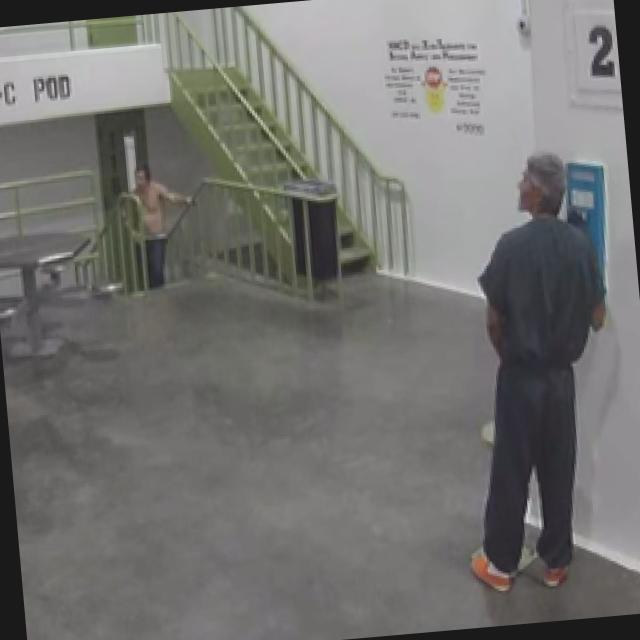person: (437, 150, 632, 595), (120, 158, 202, 289)
